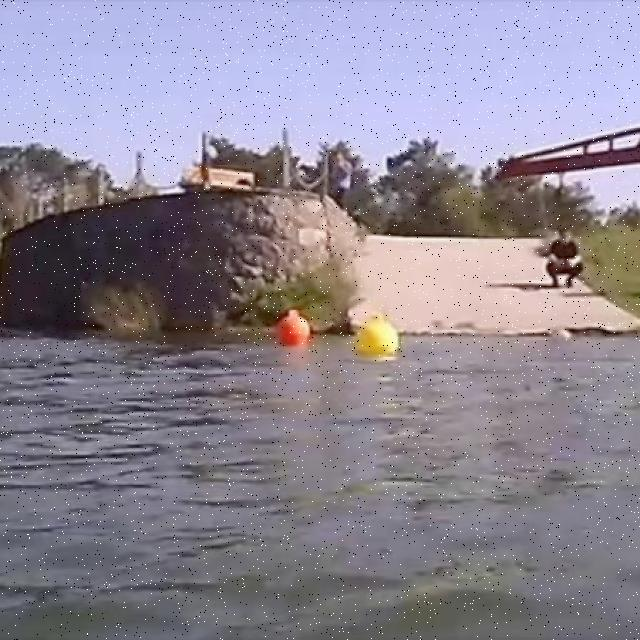buoy: (357, 312, 400, 356), (275, 309, 311, 345)
